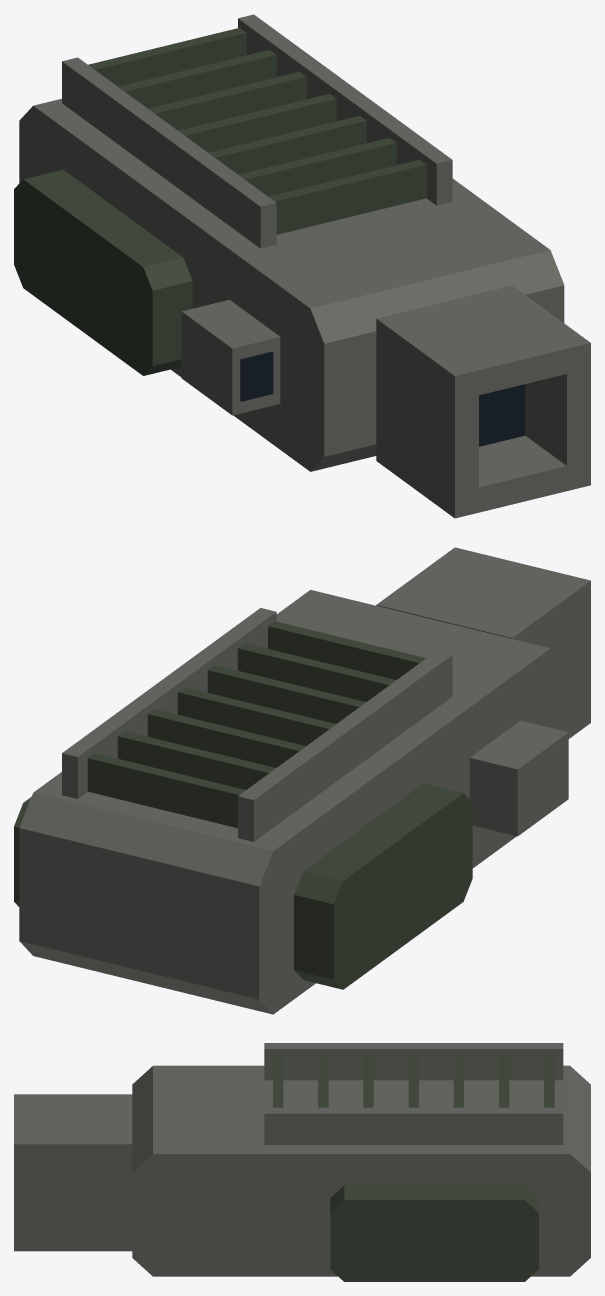
File: pt2_emitter.obj
3 renders of one model, top to bottom at view 1: azimuth 30°, elevation 25°; view 2: azimuth 150°, elevation 25°; view 3: azimuth 270°, elevation 25°, orthographic. The views are drawn at different scales.
Parts seen in each view (by area): view 1: pt2_emitter; view 2: pt2_emitter; view 3: pt2_emitter.
Boxes of the visible parts, left/top/right/bottom form: pt2_emitter: left=14, top=14, right=590, bottom=518; pt2_emitter: left=14, top=547, right=590, bottom=1014; pt2_emitter: left=14, top=1043, right=590, bottom=1281.
Size of the model in its own units: 0.82 by 0.49 by 1.66.
